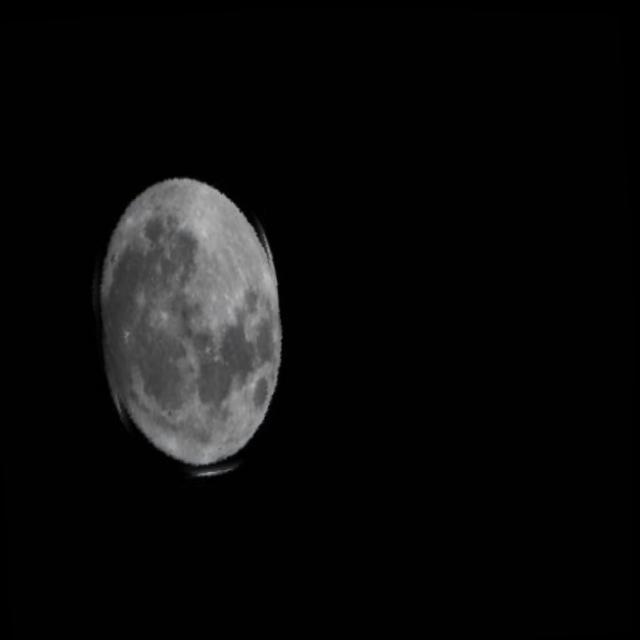moon: (76, 166, 298, 492)
